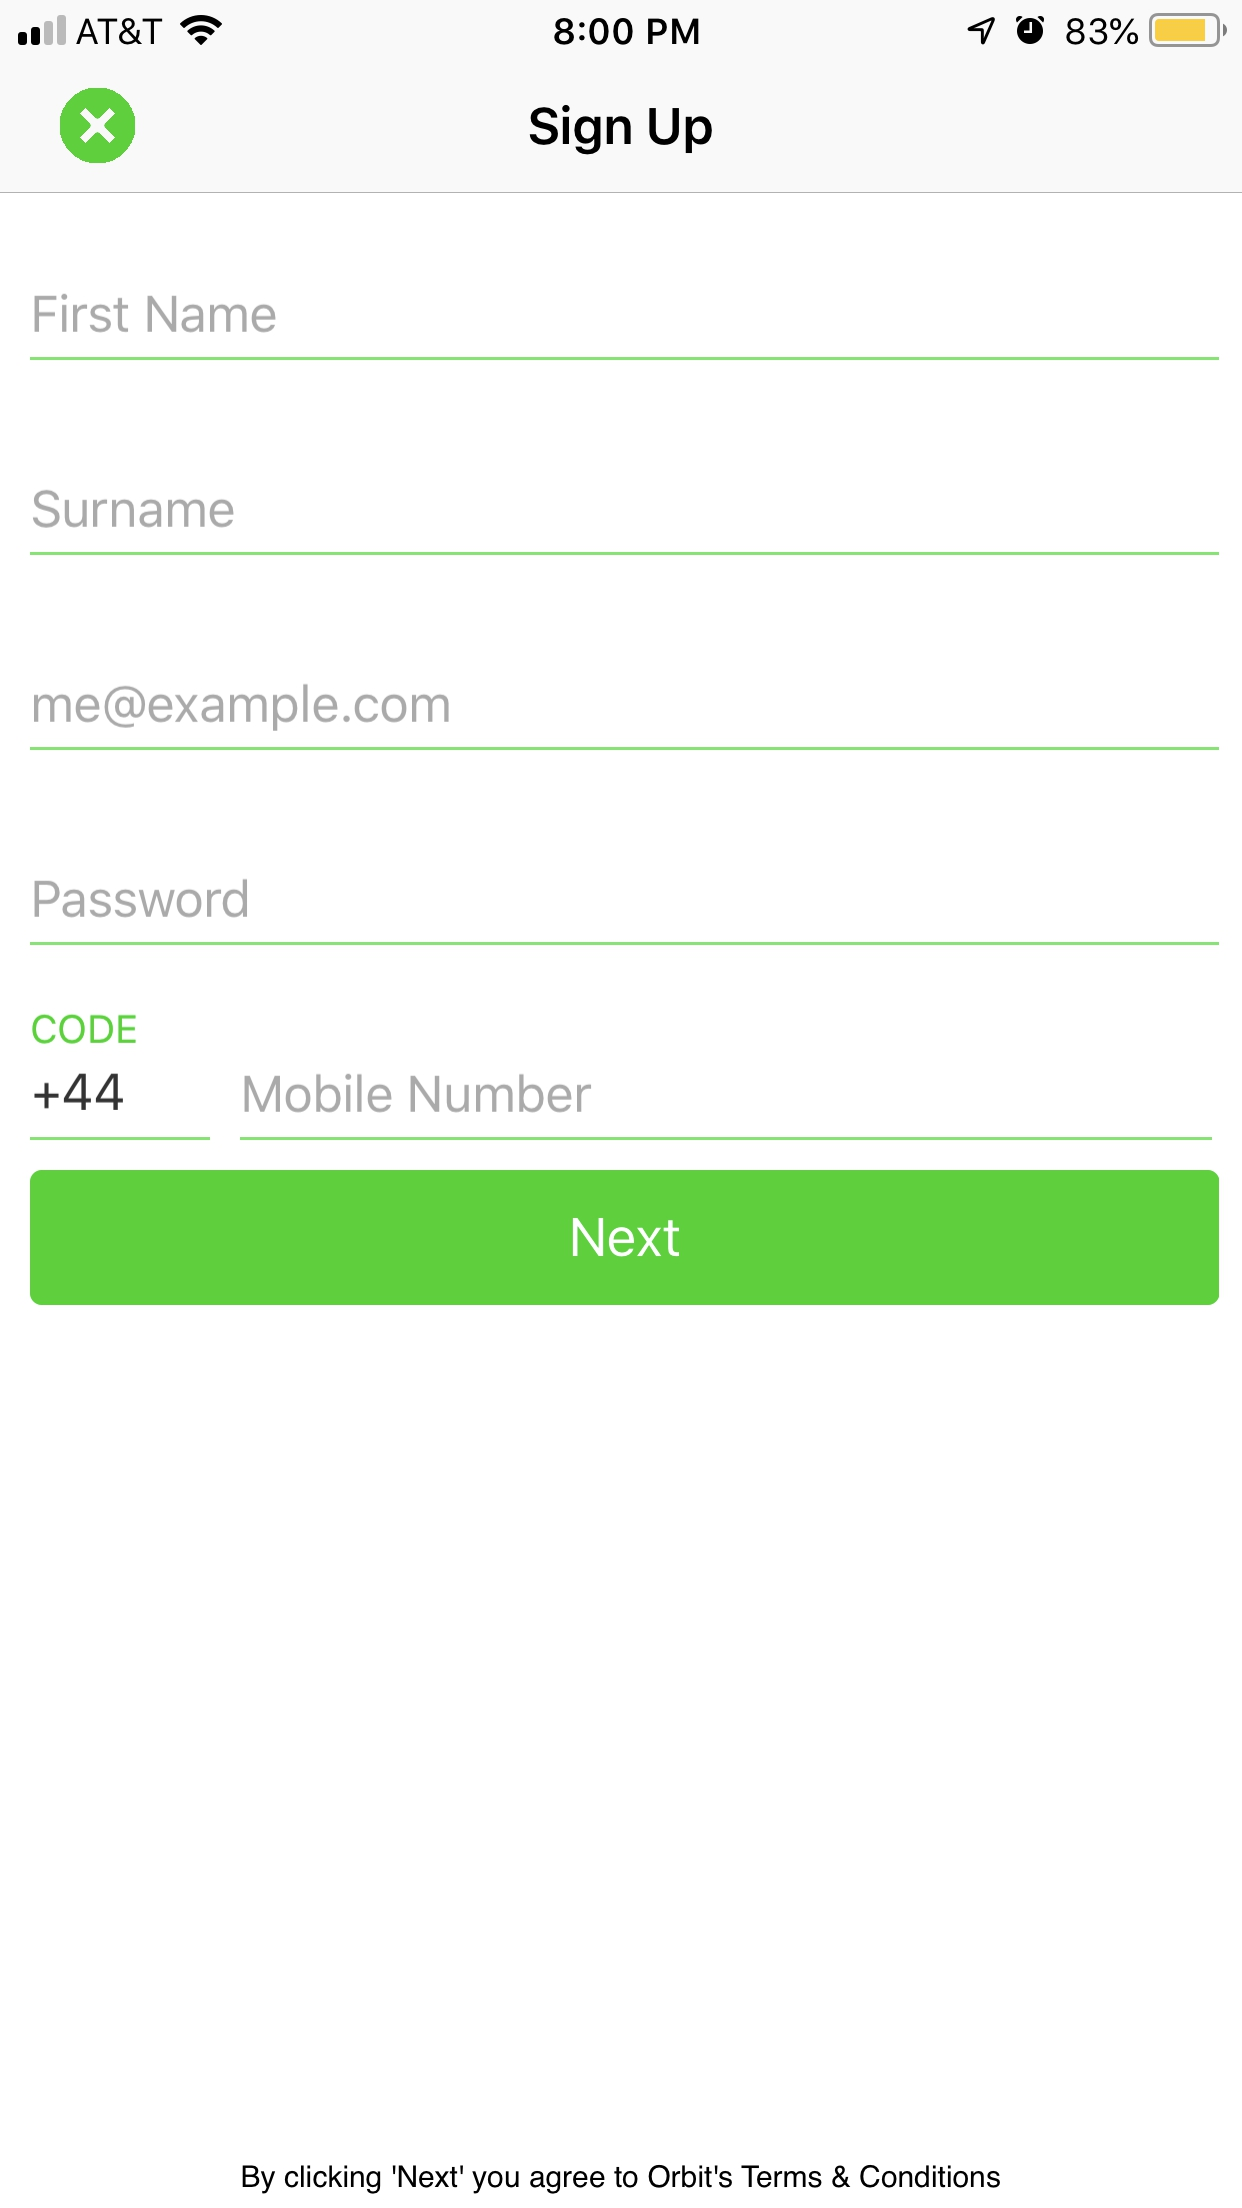EditText: (30, 682, 1219, 752), (30, 293, 1219, 362), (30, 878, 1219, 946), (30, 488, 1219, 557), (240, 1074, 1213, 1140), (30, 1072, 212, 1140)
Icon: (61, 88, 136, 165)
Text: (243, 2164, 1001, 2194), (35, 684, 450, 732), (246, 1074, 593, 1113), (529, 105, 713, 156), (33, 296, 276, 334), (33, 880, 249, 919), (33, 490, 237, 529), (33, 1072, 124, 1112), (32, 1015, 136, 1045)
TextButton: (30, 1171, 1219, 1306)
UpperTaskBar: (2, 2, 1242, 49)
